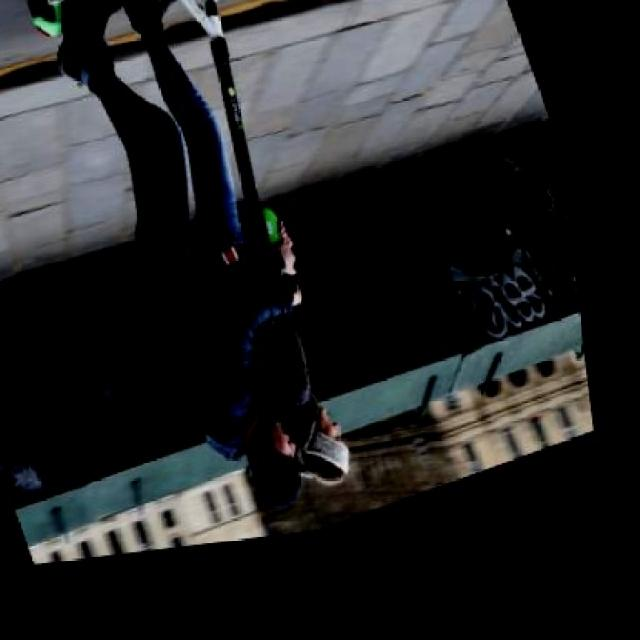bare_head: (233, 416, 308, 518), (288, 393, 364, 489)
human: (123, 0, 369, 495), (61, 0, 300, 509)
kickboard: (26, 0, 232, 50)
